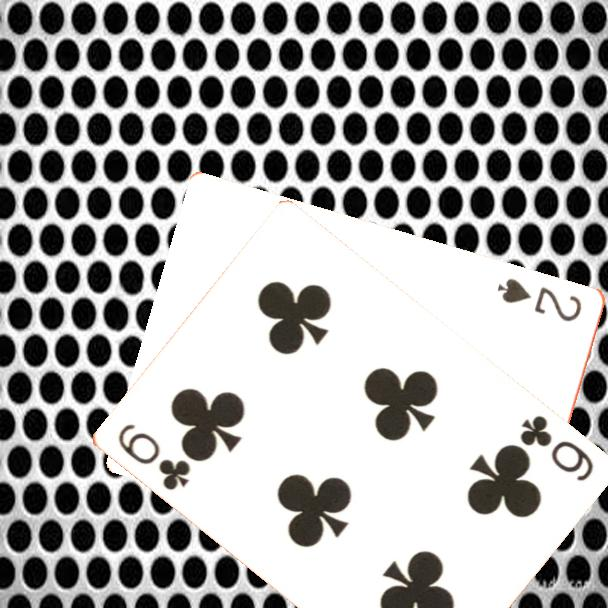c06: (113, 420, 193, 494), (515, 412, 596, 485)
s02: (494, 274, 585, 325)
